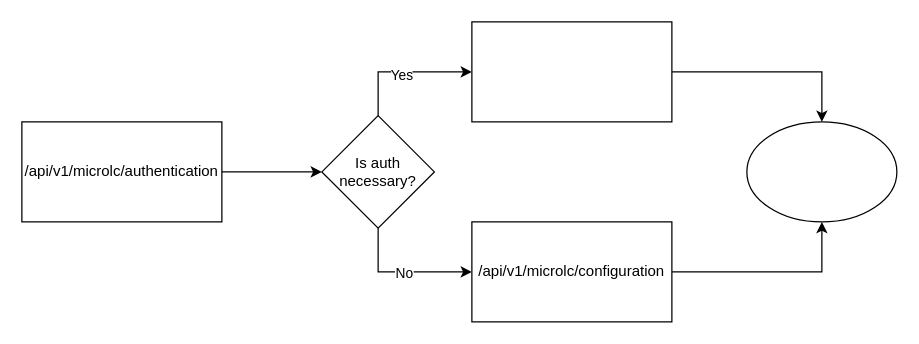
The diagram is 919 pixels wide and 344 high, and some of its shapes have lost their labels. Each missing label, with the centre of its shape:
End: pixel 821 171
parallel calls to: configured auth endpoint + /api/v1/microlc/configuration: pixel 571 71
